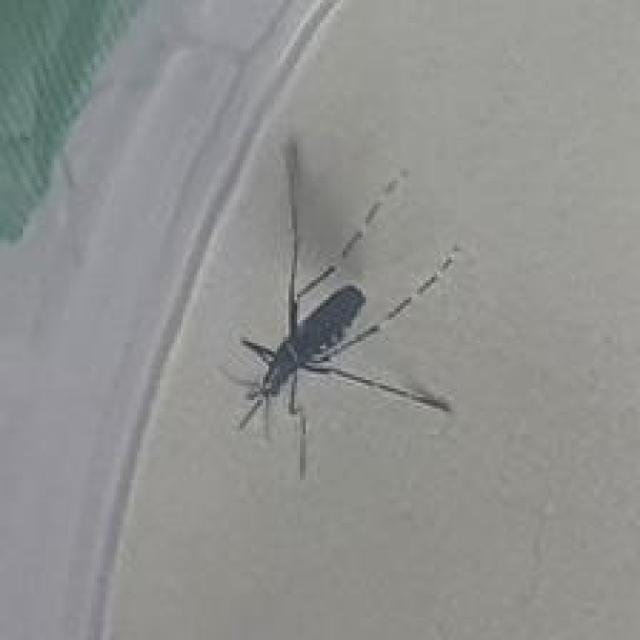Aedes albopictus: (222, 138, 462, 478)
